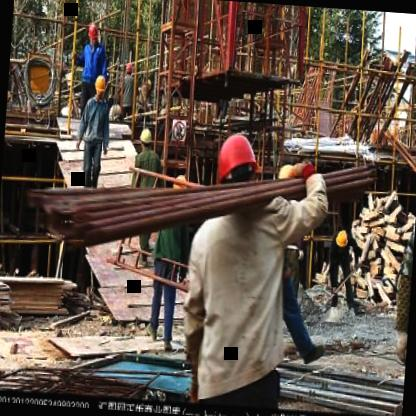helmet: (209, 126, 264, 204), (136, 124, 153, 154), (92, 73, 107, 99), (86, 21, 100, 48), (124, 58, 136, 76)
